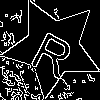R: (27, 22, 81, 80)
